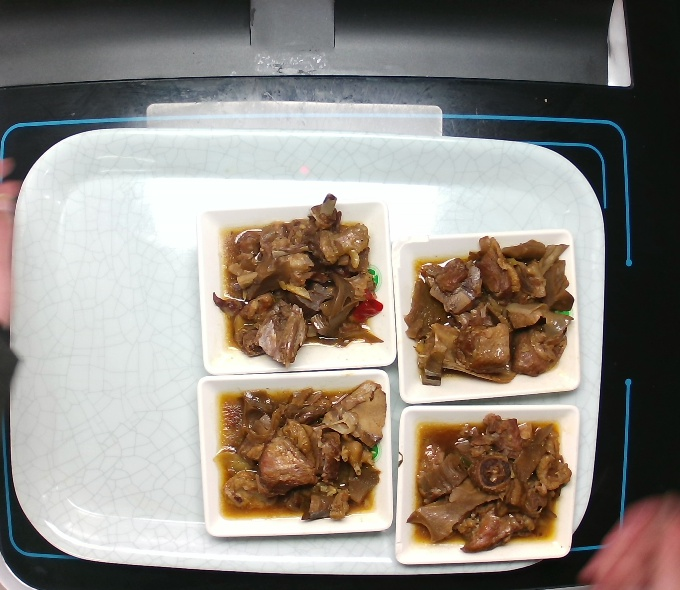wcq-YaRouSunGan: (224, 209, 387, 357), (412, 240, 573, 383), (219, 384, 384, 516), (412, 414, 566, 549)
